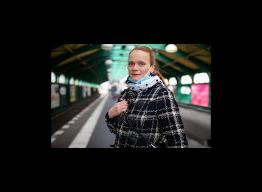mask_weared_incorrect: (128, 54, 149, 84)
